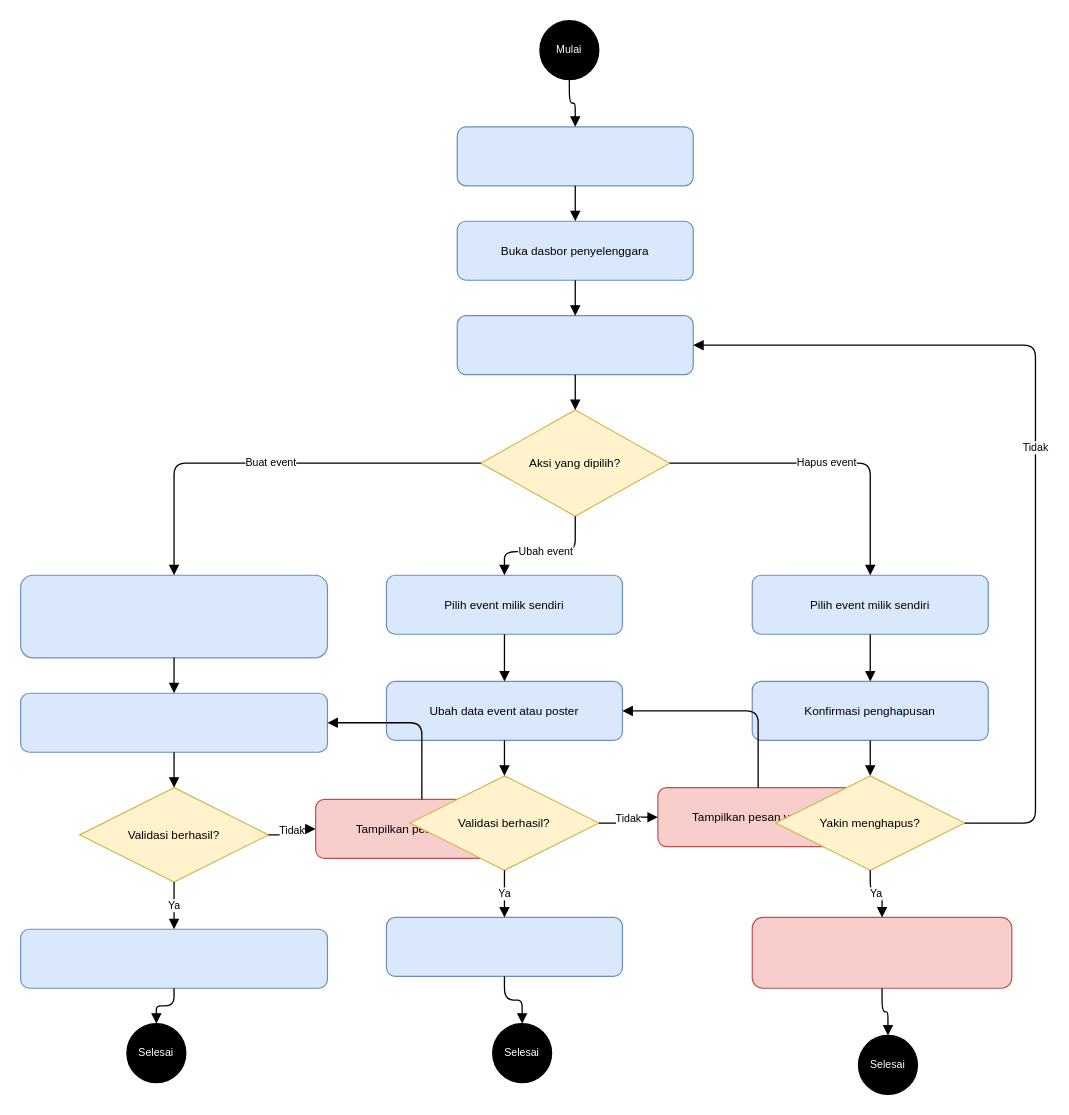
Image size: 1069x1115. Some labels were removed from this diagram. Here are the shapes that lost their labels. From the top down, the centre of each, then its label:
(574,156): Login sebagai penyelenggara
(574,344): Pilih menu Event Saya
(173,616): Isi form event: judul, kategori, jadwal, lokasi, kuota, harga
(173,722): Unggah poster (opsional)
(173,958): Simpan event sebagai draf atau terbit
(503,946): Simpan perubahan
(881,952): Hapus event, poster, dan pendaftaran
